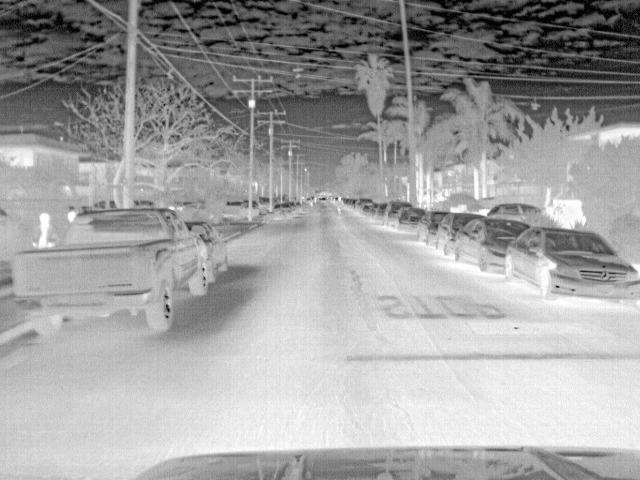car: (13, 208, 211, 340), (505, 225, 640, 307), (456, 216, 533, 276), (184, 221, 230, 282), (434, 213, 485, 255), (487, 202, 550, 230), (415, 212, 451, 244), (397, 208, 432, 234), (384, 200, 416, 228), (354, 195, 374, 212), (373, 201, 390, 220), (274, 204, 293, 218), (237, 198, 250, 217), (361, 206, 376, 216)
person: (31, 208, 59, 249), (67, 208, 79, 225), (337, 196, 346, 216)
